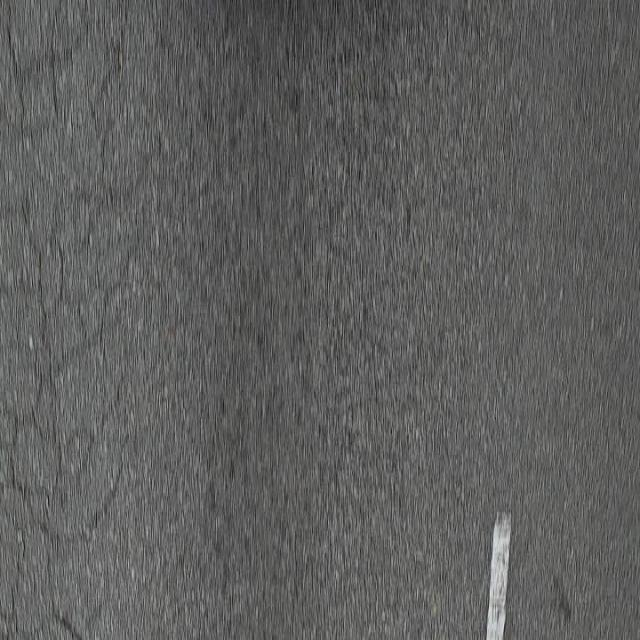cracks: (0, 0, 138, 640)
